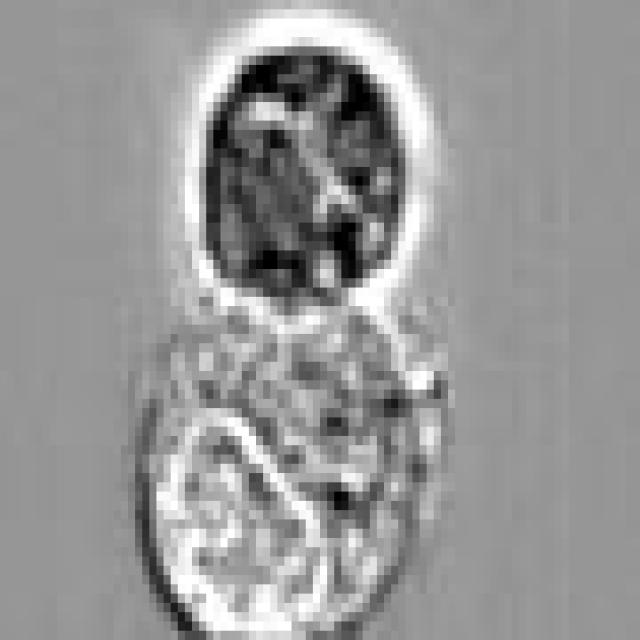Cancer Cell: (142, 278, 420, 640)
WBC: (199, 37, 405, 306)
